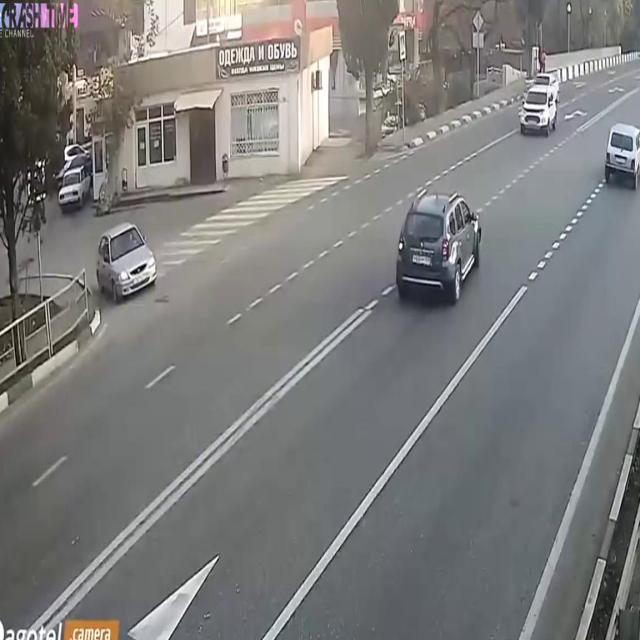non_accident: (513, 63, 563, 144)
